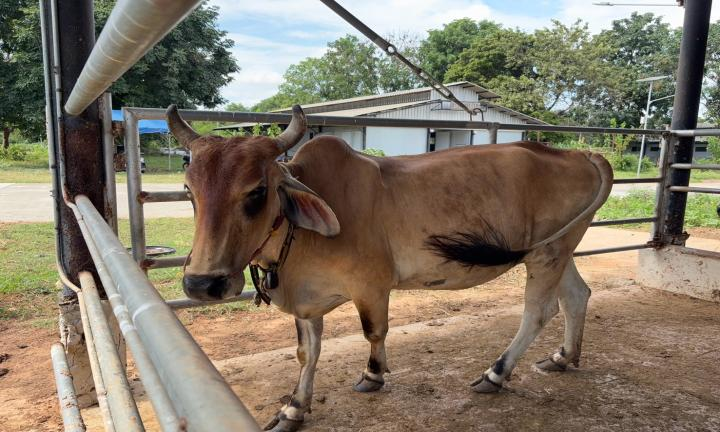Brahman: (166, 105, 612, 432)
